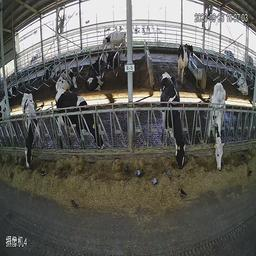cow: (54, 88, 105, 153), (158, 69, 184, 170), (209, 81, 227, 170), (19, 92, 39, 169), (94, 32, 120, 60), (177, 43, 194, 84), (84, 59, 105, 92), (56, 68, 77, 94), (233, 70, 249, 96), (105, 48, 119, 71)
